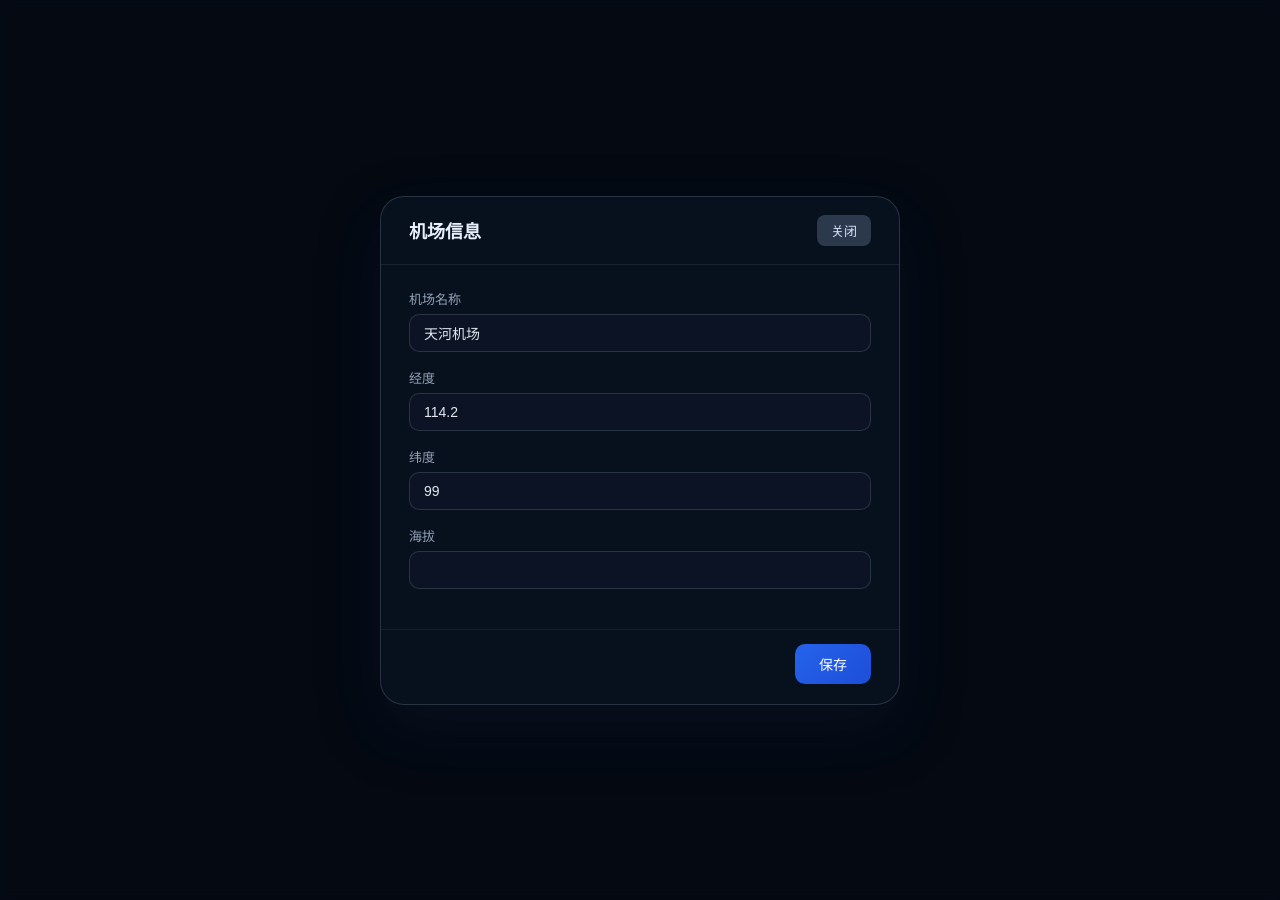
Scenario: AirportFormDialog › rejects invalid latitude
Click the button "保存" at (833, 664), box [795,644,871,684]
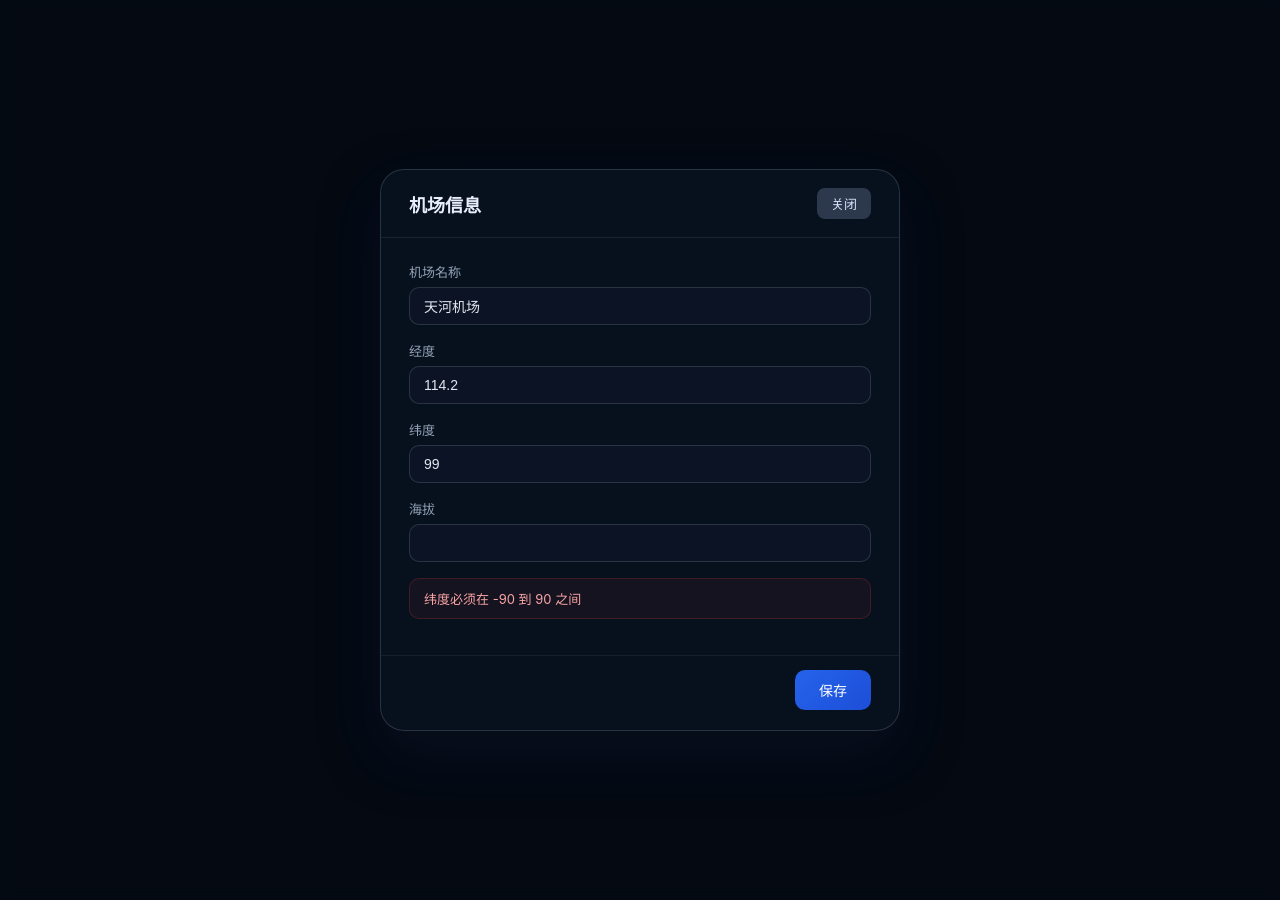
Expected: the text "纬度必须在 -90 到 90 之间" is shown, [409,578,871,619]
